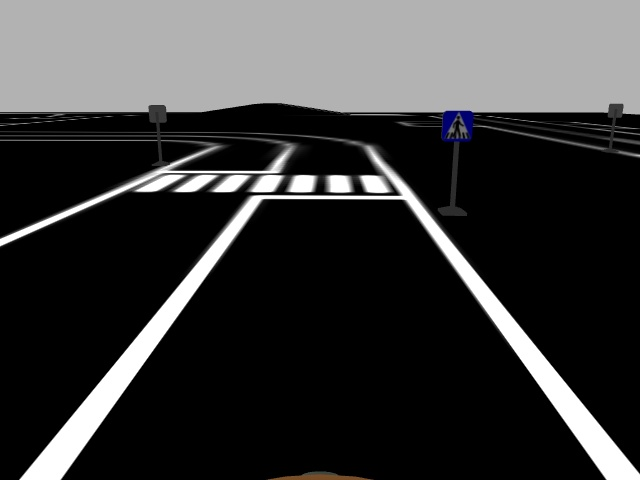crosswalk: (440, 108, 476, 143)
